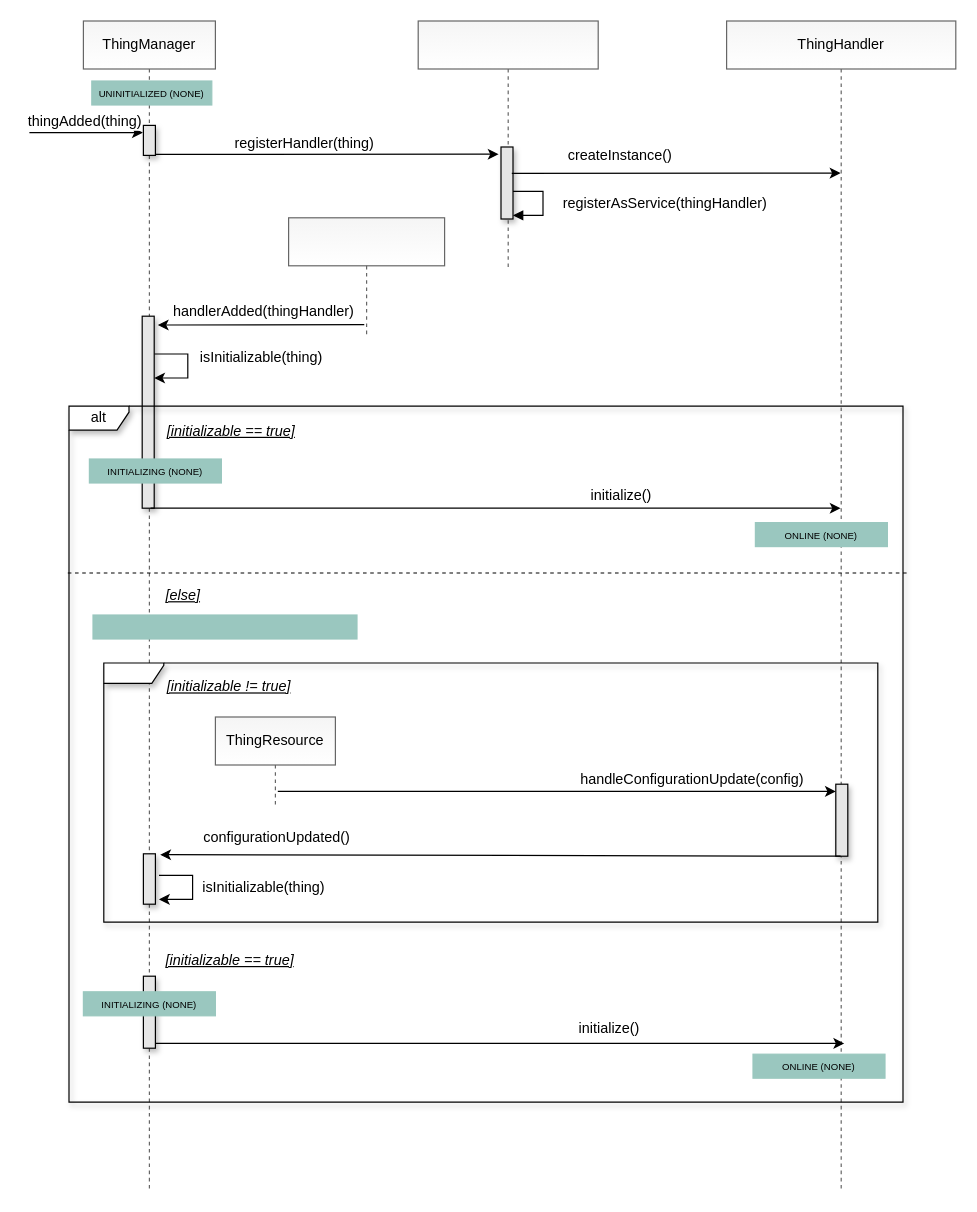
The diagram is 977 pixels wide and 1212 high, and some of its shapes have lost their labels. The centre of each missing label's shape, as x and y in pixels:
"loop" goes at (x=491, y=794).
"ThingHandlerFactory" goes at (x=507, y=143).
"ThingHandlerTracker" goes at (x=366, y=277).
"UNINITIALIZED (HANDLER_CONFIGURATION_PENDING)" goes at (x=224, y=626).
